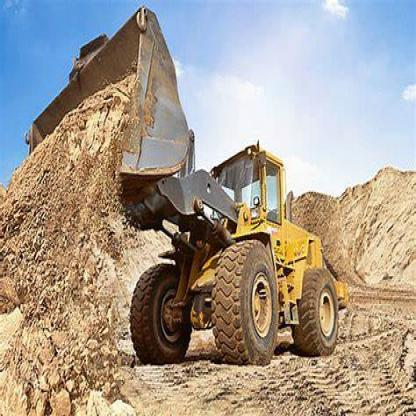bull_dozer/loader/grader: (20, 0, 355, 367)
